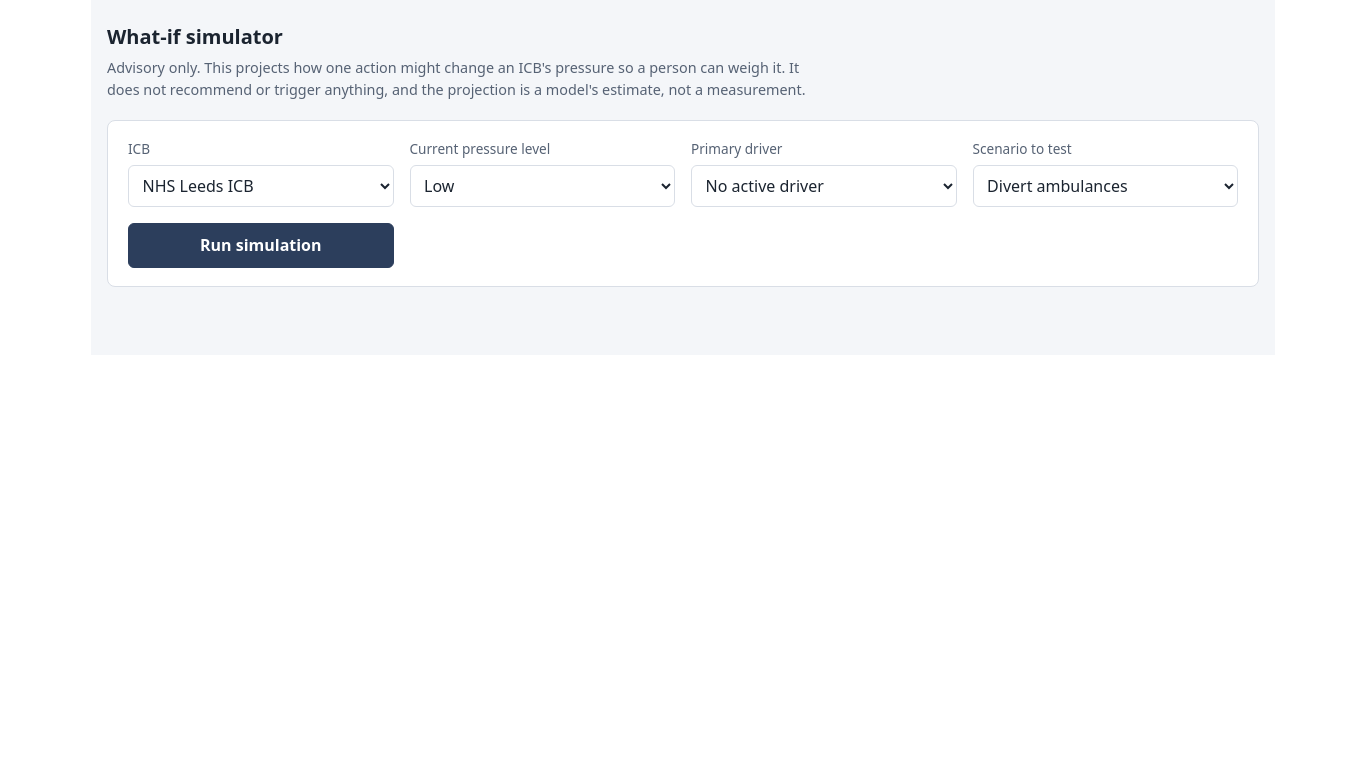
Test case: SimulatorPage › conflicting inputs: shows the flag next to the projection instead of hiding the result
Step 1. Click the button "Run simulation" → [261, 245], box [128, 223, 394, 268]
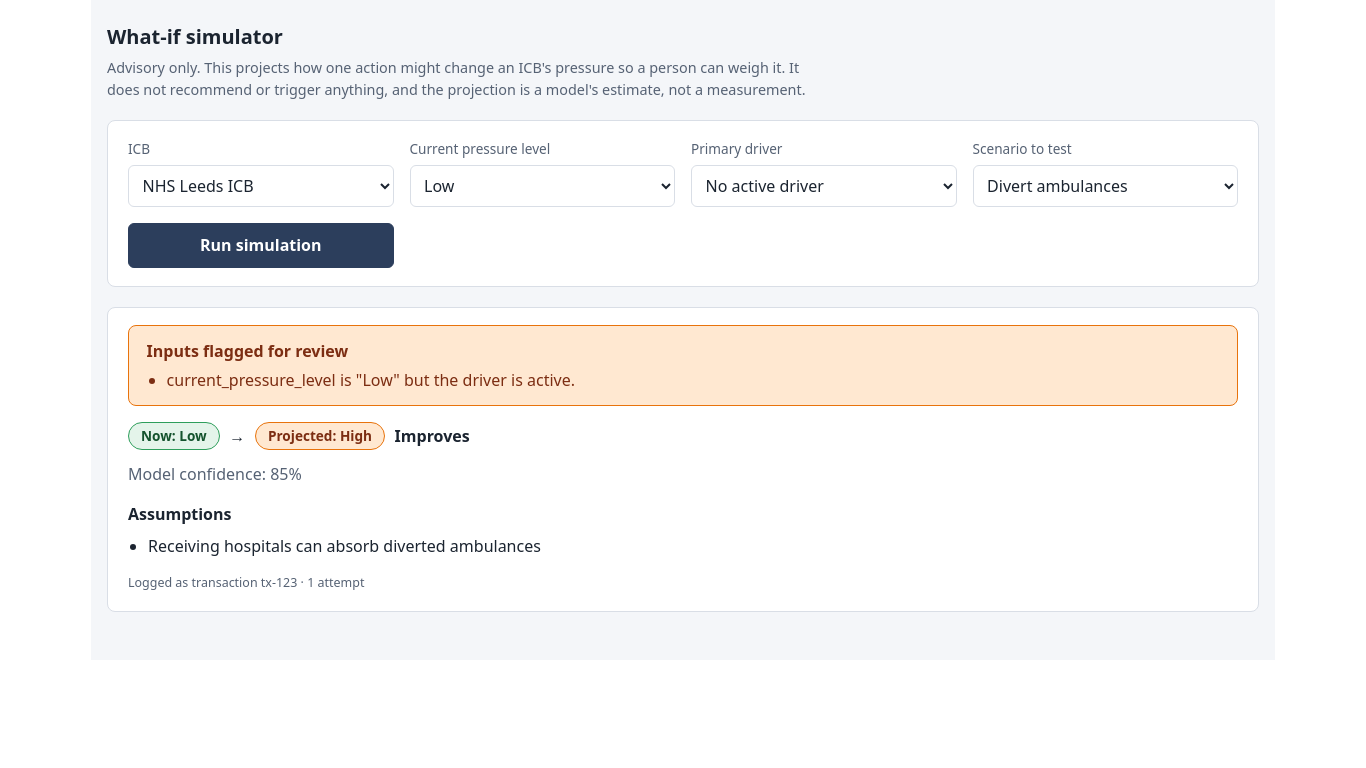
Expected: the message shows "Inputs flagged for review", [147, 340, 348, 362]
Expected: the message shows "driver is active", [167, 369, 575, 391]
Expected: the text "Projected: High" is shown, [255, 422, 385, 450]
